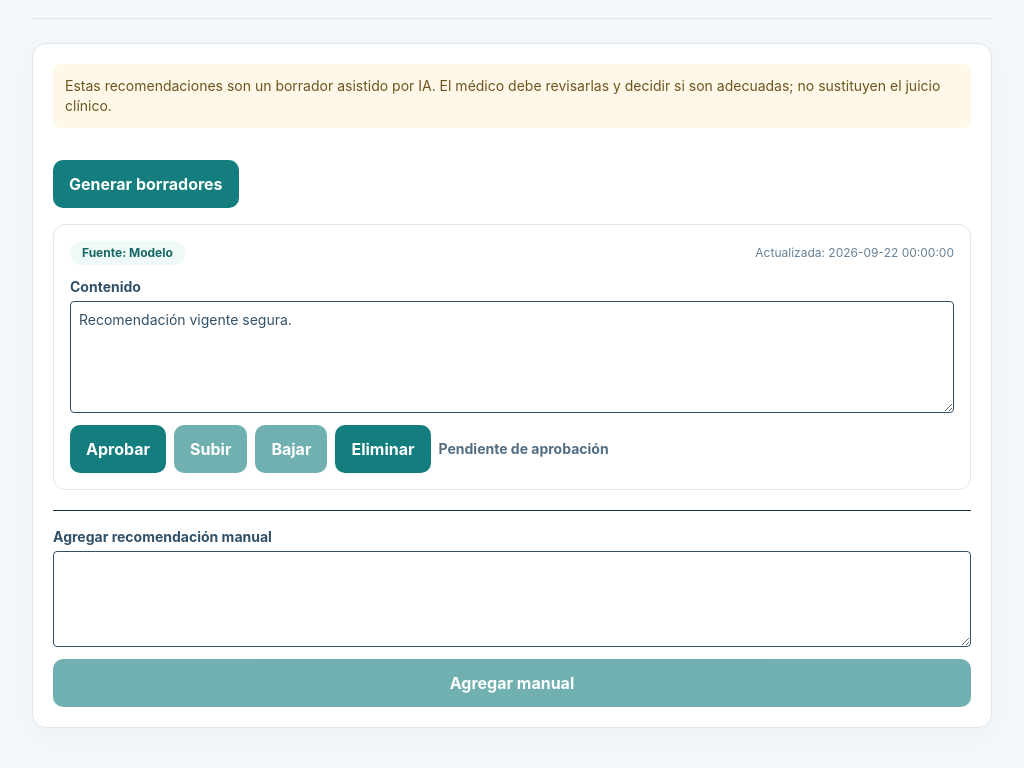
Test: RecommendationsScreen routed workflow › clears action busy state after a later sequential recommendation action
The width and height of the screenshot is (1024, 768).
(page scrolled)
Check: the text box showing "Recomendación vigente segura." is shown, box [70, 301, 954, 413]
Step 1. Click the button "Aprobar" → (118, 449), box [70, 425, 166, 473]
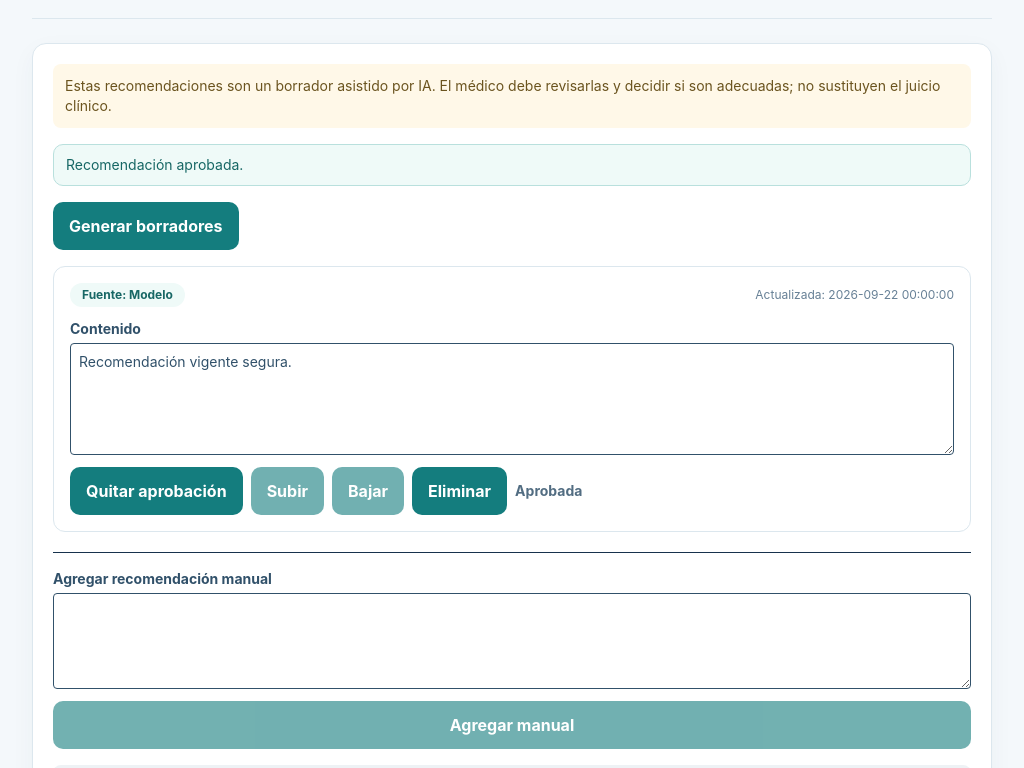
Check: the button "Quitar aprobación" is enabled, box [70, 467, 243, 515]
Check: the text "Aprobada" is shown, box [515, 481, 582, 501]
